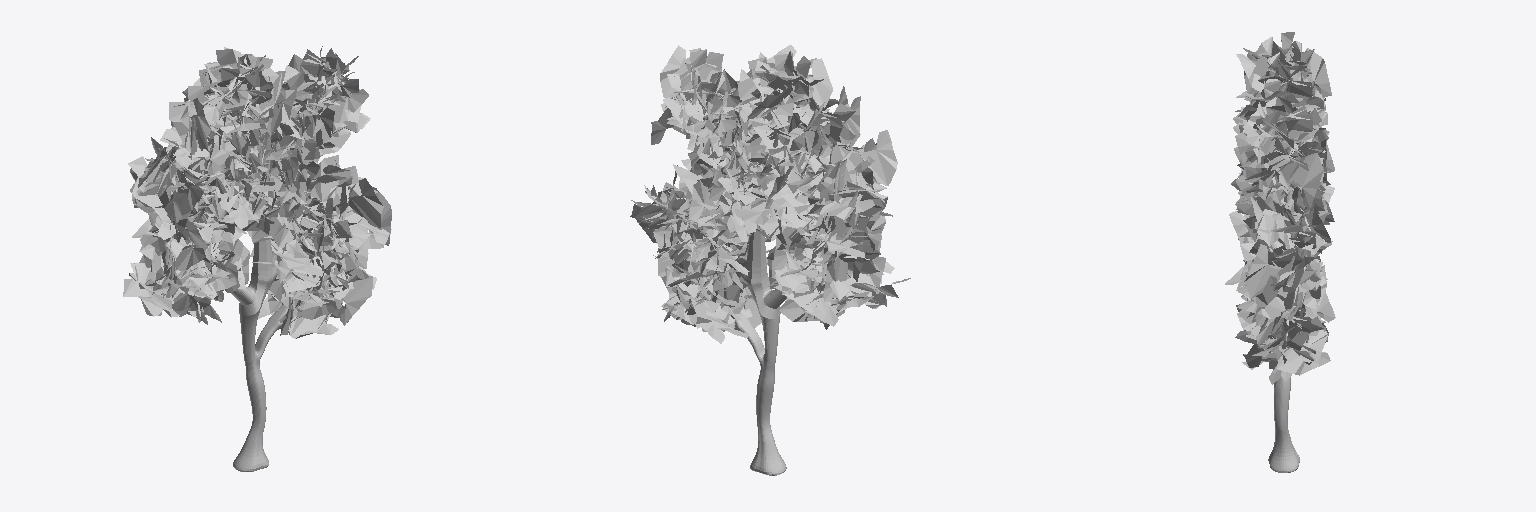
Rendered from uploads_files_3461467_tree.obj.
3 renders of one model, left to right at view 1: azimuth 30°, elevation 25°; view 2: azimuth 150°, elevation 25°; view 3: azimuth 270°, elevation 25°, orthographic.
Parts seen in each view (by area): view 1: Tree_Branch, Cube_Cube.001; view 2: Tree_Branch, Cube_Cube.001; view 3: Tree_Branch, Cube_Cube.001.
Part boxes in pixels (left/top/right/bottom): Tree_Branch: left=123, top=46, right=391, bottom=338; Cube_Cube.001: left=157, top=185, right=352, bottom=471; Tree_Branch: left=630, top=45, right=910, bottom=343; Cube_Cube.001: left=702, top=94, right=786, bottom=475; Tree_Branch: left=1225, top=32, right=1335, bottom=384; Cube_Cube.001: left=1268, top=231, right=1299, bottom=472.
Bounding box in the file's own units: 3.54 × 5.44 × 1.3.